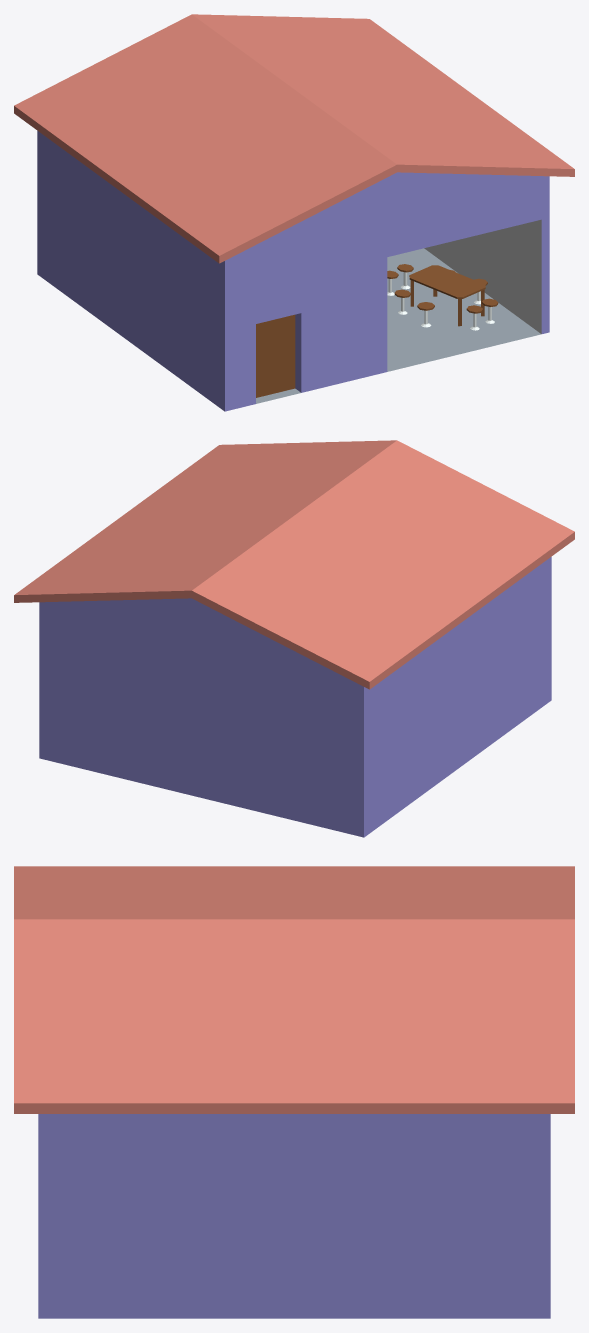
Rendered from garagempagode.fbx.
3 renders of one model, top to bottom at view 1: azimuth 30°, elevation 25°; view 2: azimuth 150°, elevation 25°; view 3: azimuth 270°, elevation 25°, orthographic. The views are drawn at different scales.
Visible parts, largest first — view 1: Cube.001; view 2: Cube.001; view 3: Cube.001.
Part boxes in pixels (bbox=[...]): Cube.001: bbox=[14, 14, 574, 411]; Cube.001: bbox=[14, 440, 574, 837]; Cube.001: bbox=[14, 866, 574, 1318].
Bounding box in the file's own units: 945 × 544 × 945.
